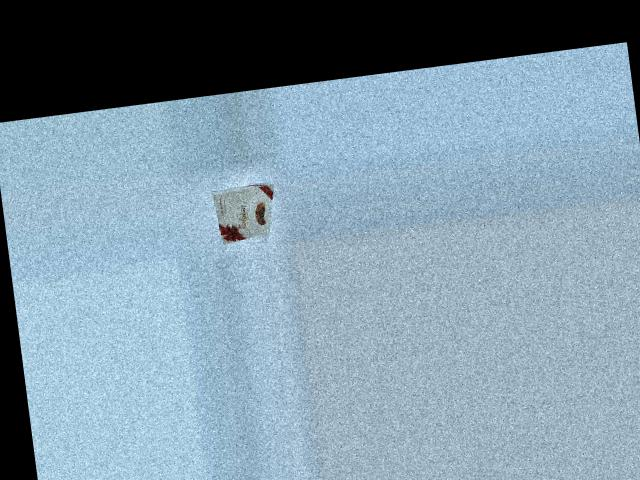chocolate: (211, 169, 283, 246)
